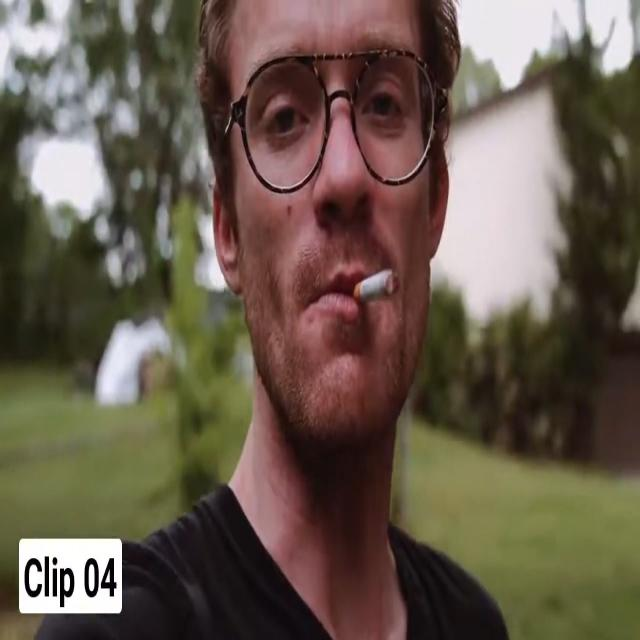Курение: (350, 266, 404, 304)
